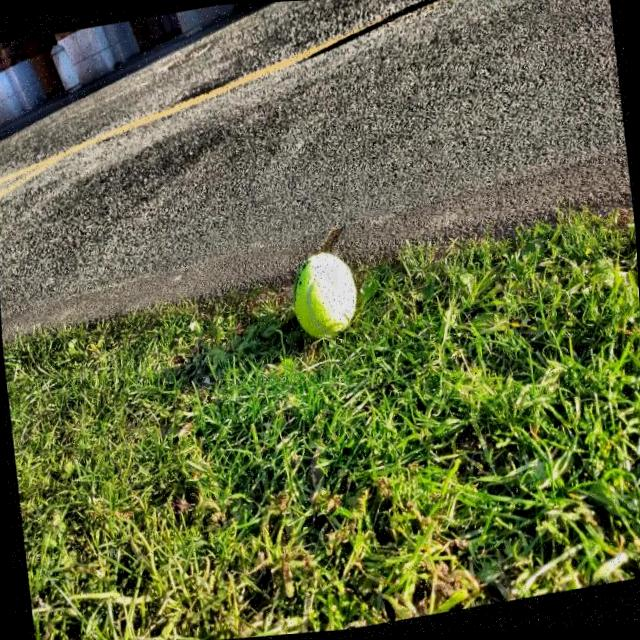tennis-ball: (288, 245, 364, 354)
